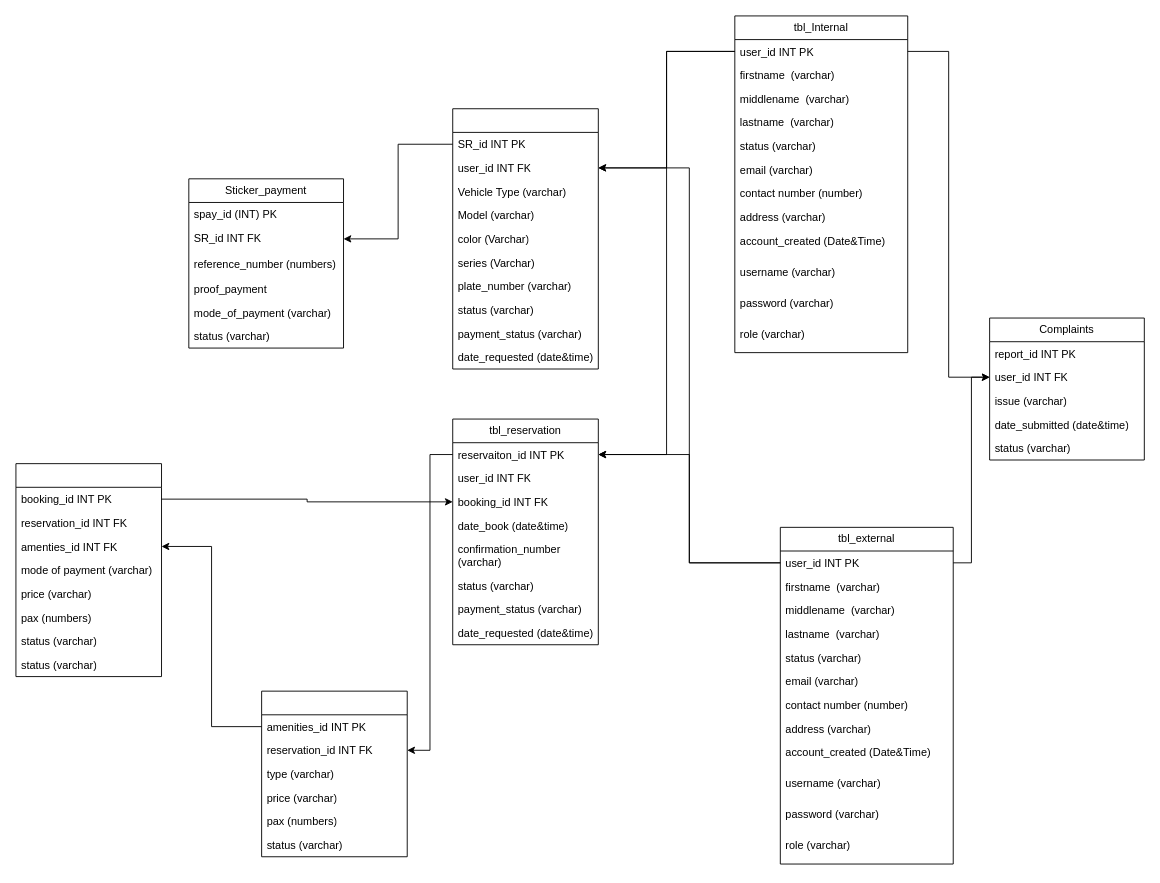
This 1160x883 diagram has some shape labels left out. Here are the shapes that lost their labels. From the top down, the box of each, then its label:
(452, 108, 598, 369): Sticker_Reg
(15, 463, 162, 677): tbl_bookpayment
(261, 690, 407, 857): tbl_ammenities
